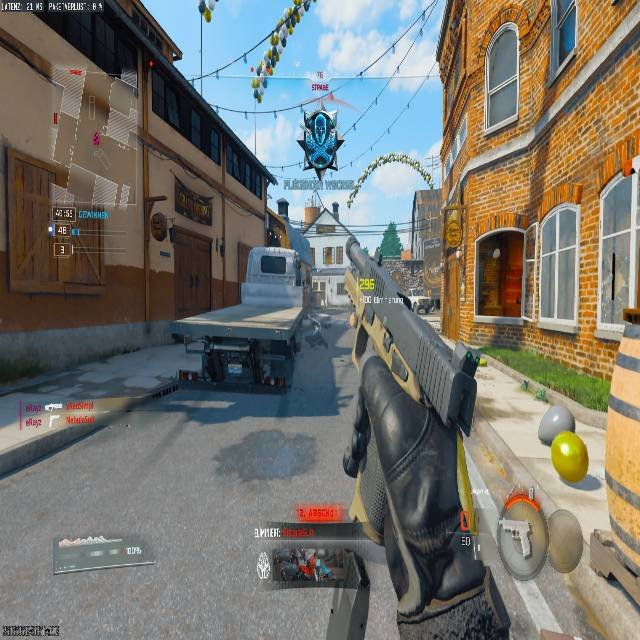player: (295, 108, 344, 178)
